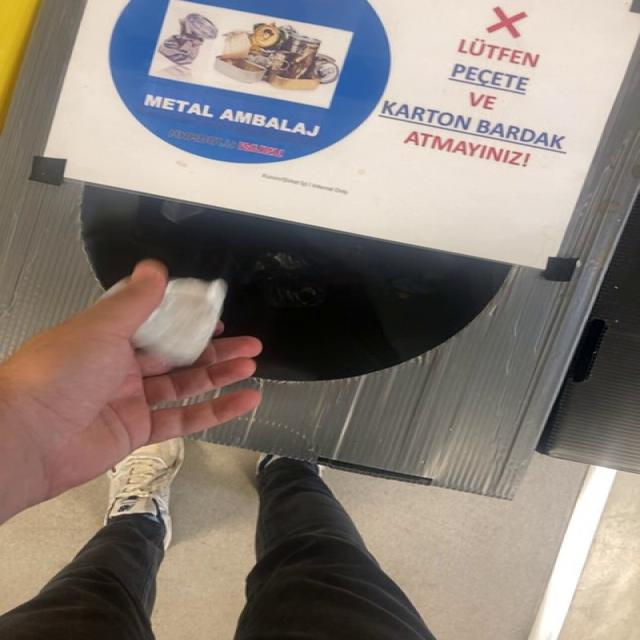bin: (3, 0, 640, 498)
metal: (132, 278, 227, 368)
